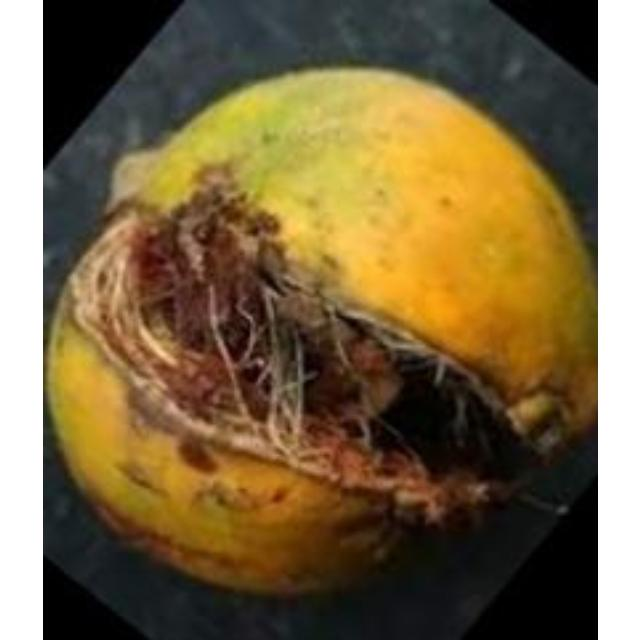damaged: (42, 66, 594, 616)
